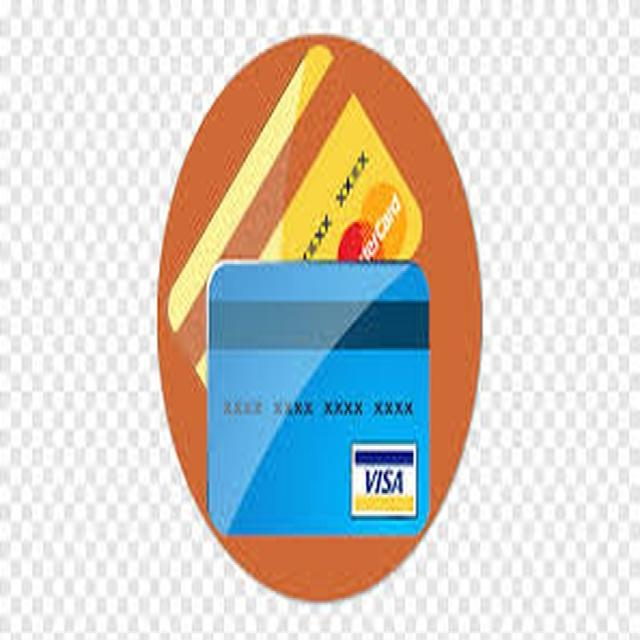card: (146, 94, 516, 532), (155, 40, 423, 430), (177, 264, 470, 551)
